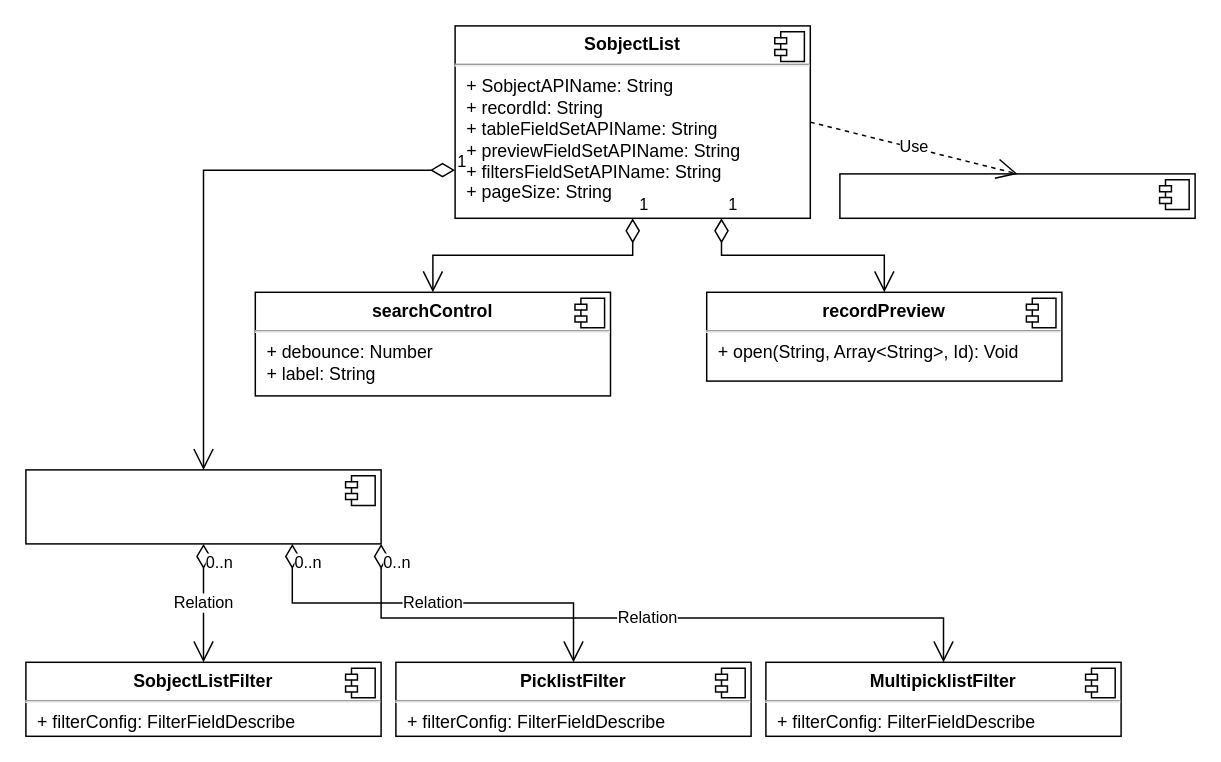
The diagram is 1221 pixels wide and 762 high, and some of its shapes have lost their labels. The shapes that lost their labels are listed below. From the top down, each one's centre as x and y in pixels, then its label:
At point (1016, 195): "SobjectListHelper".
At point (202, 506): "SobjectListFilters + filterFieldSet: Array<FilterFieldDescribe>".
